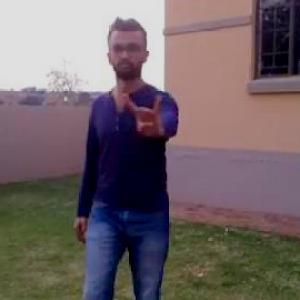takeoff-hand: (119, 83, 171, 138)
